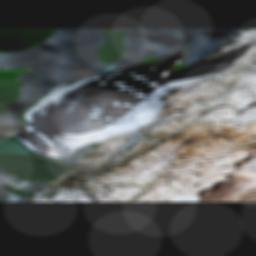Woodpecker: (11, 43, 256, 167)
